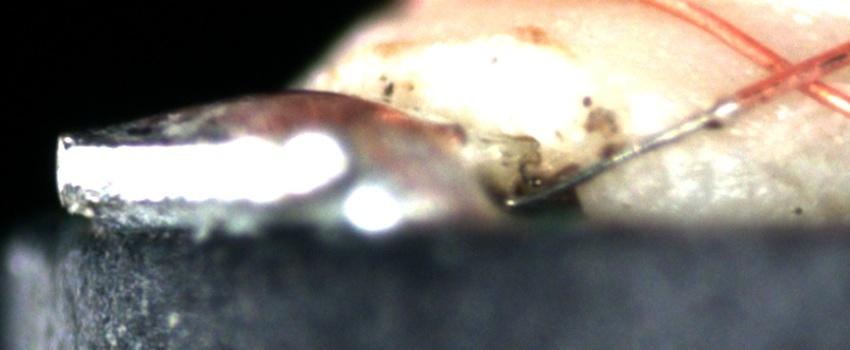CL: (750, 42, 842, 105)
TS: (505, 96, 741, 208)
TTCW: (502, 82, 774, 209)
